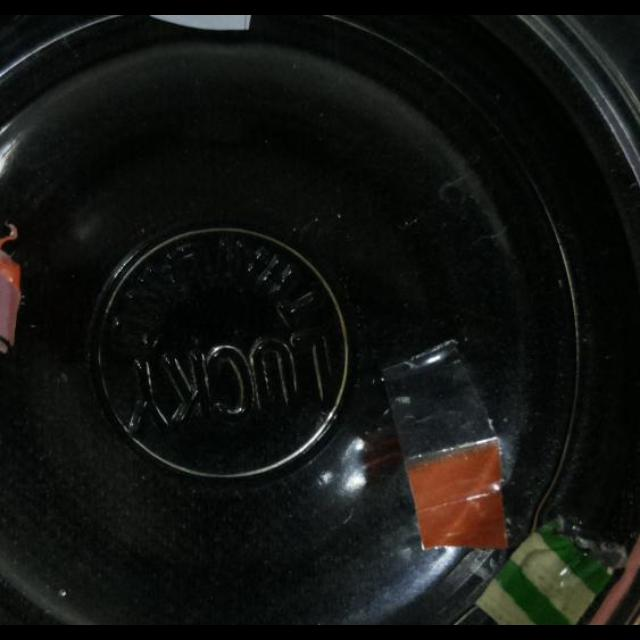Fragment: (382, 342, 508, 550), (474, 509, 640, 625), (0, 215, 24, 352), (150, 15, 252, 31)
